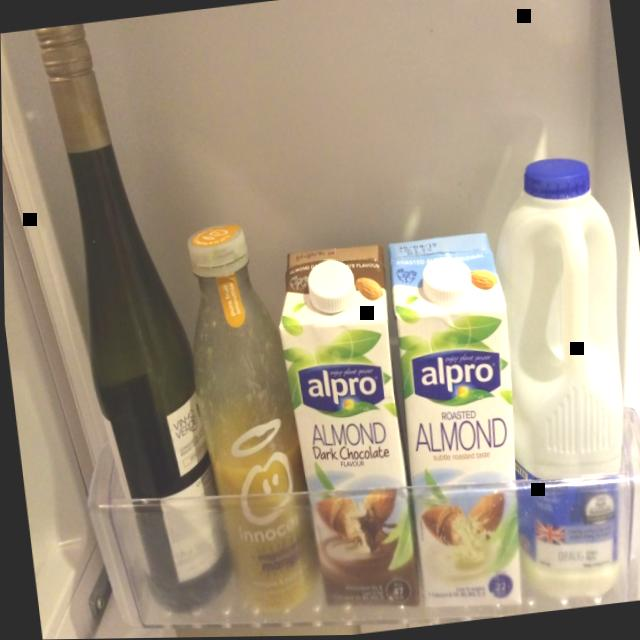Clear plastic bottle: (185, 223, 317, 612)
Drink carton: (276, 244, 416, 606), (386, 233, 518, 608)
Glass bottle: (32, 22, 229, 612)
Metal bottle cap: (33, 22, 90, 65)
Other plastic container: (493, 159, 621, 598)
Plastic bottle cap: (522, 159, 588, 200), (185, 223, 245, 267), (306, 260, 353, 313), (420, 258, 470, 307)
